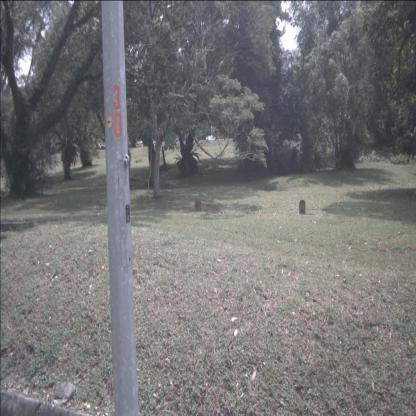vehicle-car: (135, 139, 143, 148)
